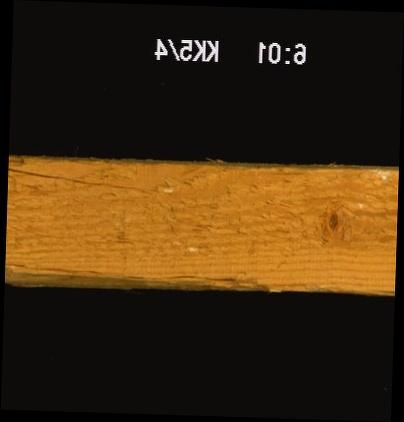small_knot: (320, 203, 344, 236)
split: (7, 167, 152, 194)
wave: (5, 263, 274, 287)
